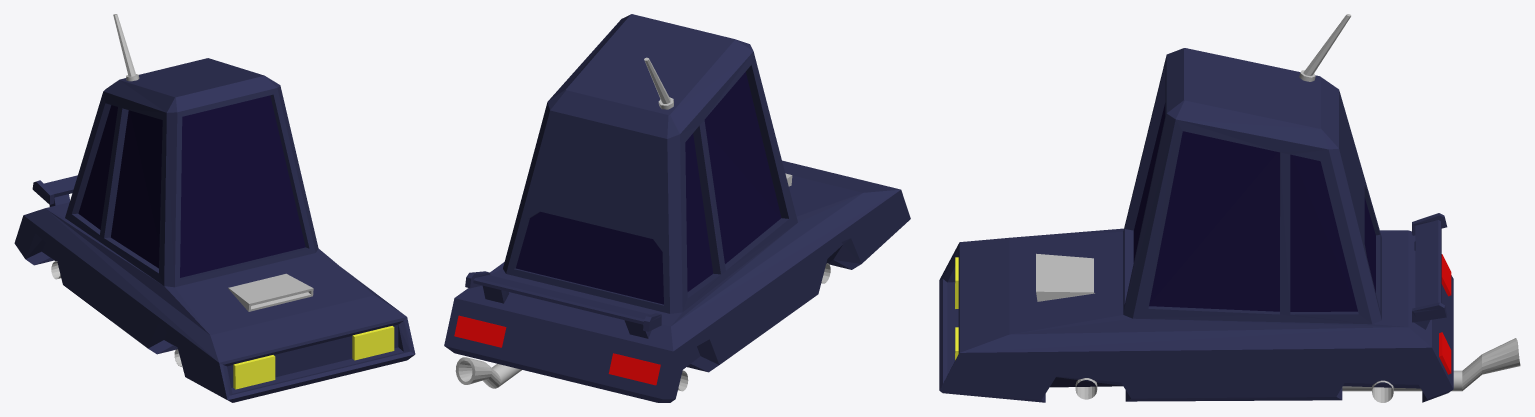
File: SM_Car_01_Body.fbx
3 views of the same model, side by side, from view 1: azimuth 30°, elevation 25°; view 2: azimuth 150°, elevation 25°; view 3: azimuth 270°, elevation 25° (orthographic). The views are drawn at different scales.
Parts seen in each view (by area): view 1: SM_Car_01; view 2: SM_Car_01; view 3: SM_Car_01.
Boxes of the visible parts, left/top/right/bottom form: SM_Car_01: left=14, top=14, right=415, bottom=402; SM_Car_01: left=444, top=14, right=910, bottom=402; SM_Car_01: left=939, top=14, right=1520, bottom=402.
Bounding box in the file's own units: 118 × 162 × 262.
